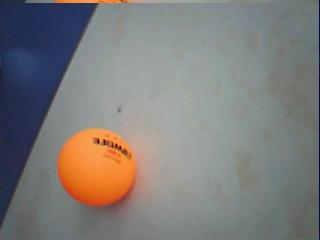oball: (57, 128, 138, 207)
